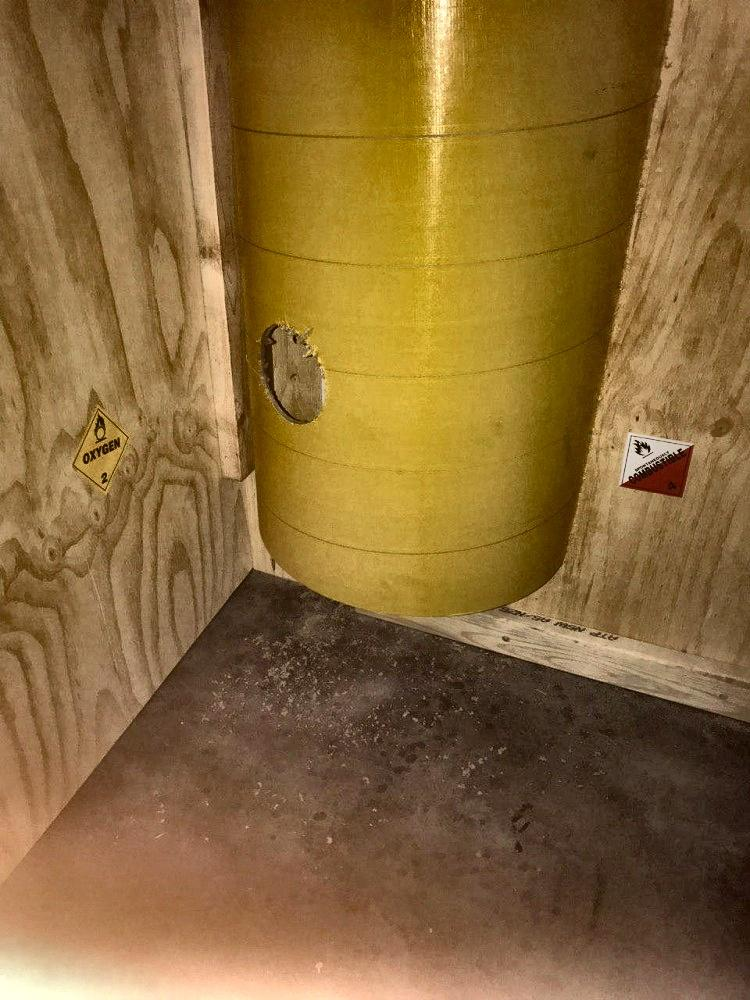oxidizer: (75, 404, 133, 497)
spontaneously-combustible: (621, 433, 693, 497)
